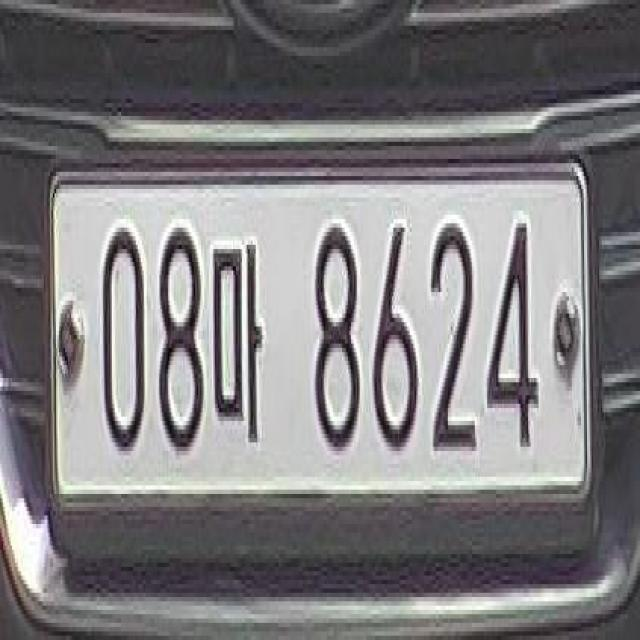illegal_plate: (51, 139, 596, 536)
